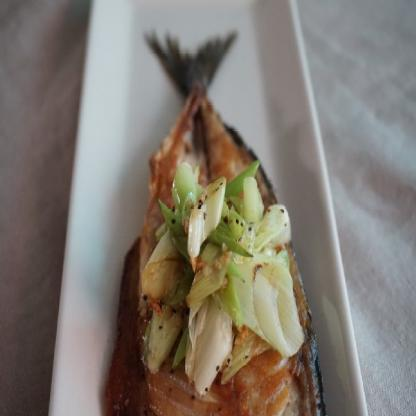Peixe: (112, 9, 308, 416)
